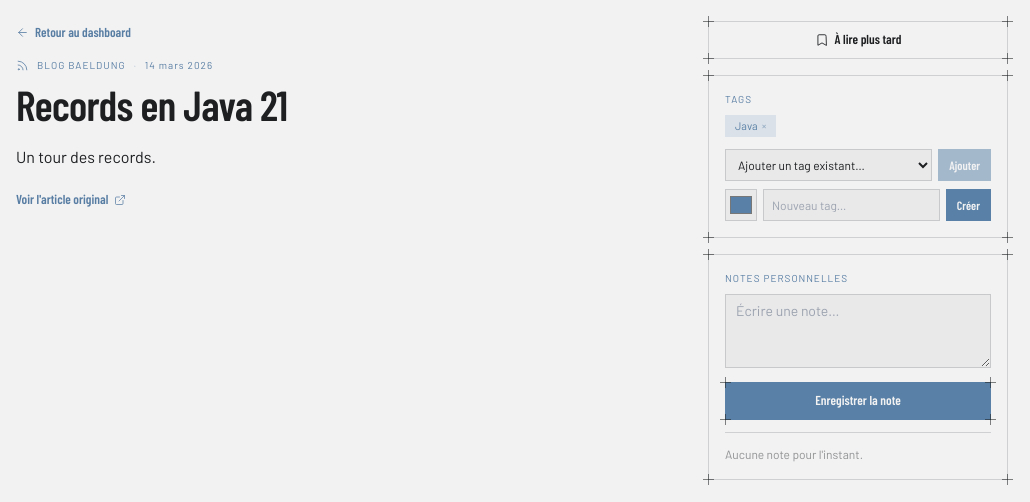
Test: ArticleDetail › associe un tag existant choisi dans la liste
The width and height of the screenshot is (1030, 502).
Expected: the text "Java" is shown, [735,118,758,132]
Step 1. Select "Backend" in the dropdown → {"x": 829, "y": 165}, box [725,149,932,181]
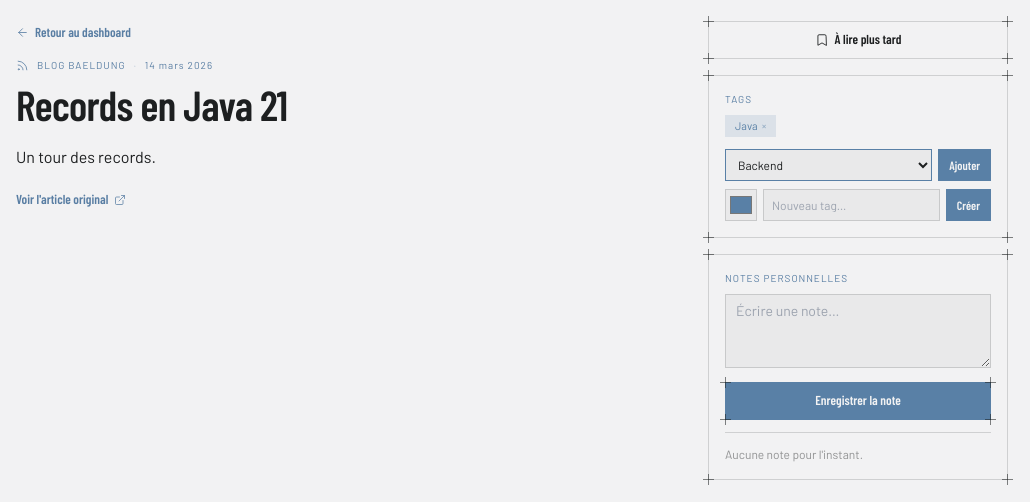
Step 2. Click the button "Ajouter" → {"x": 965, "y": 165}, box [938,149,991,181]
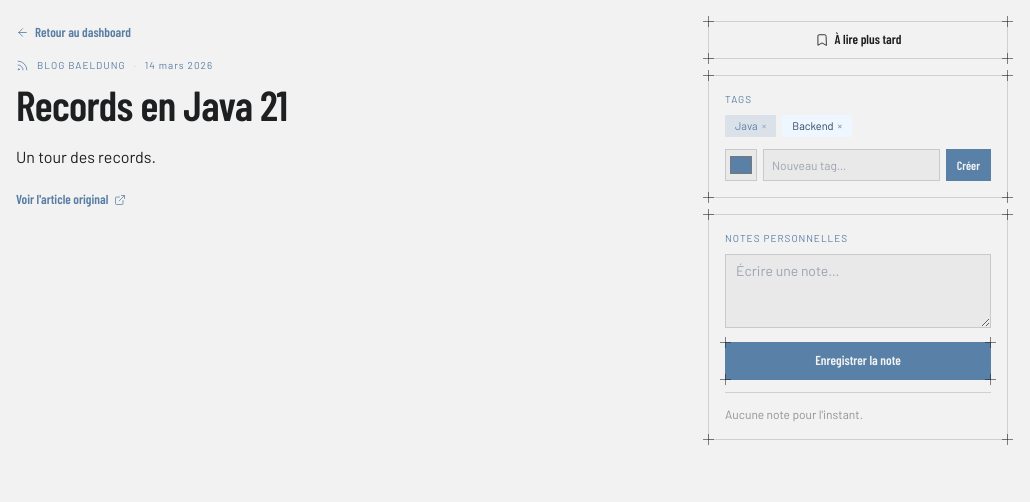
Now the text "Backend" is shown, box [792,118,834,132]
